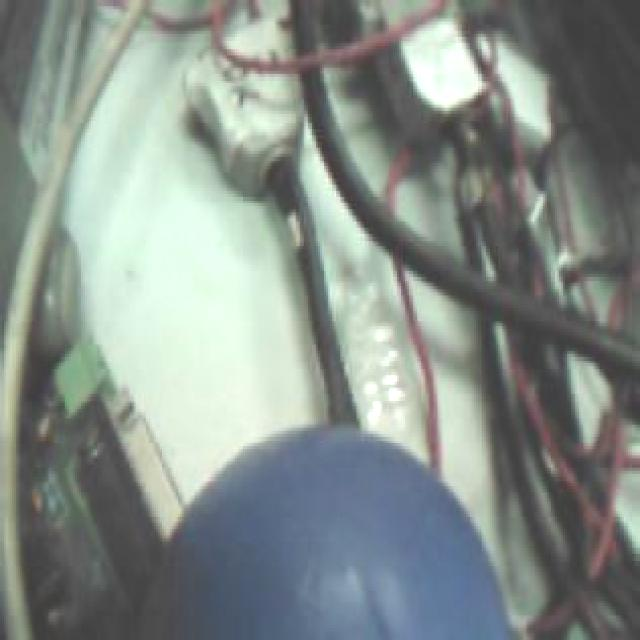BallPurple: (161, 425, 513, 640)
